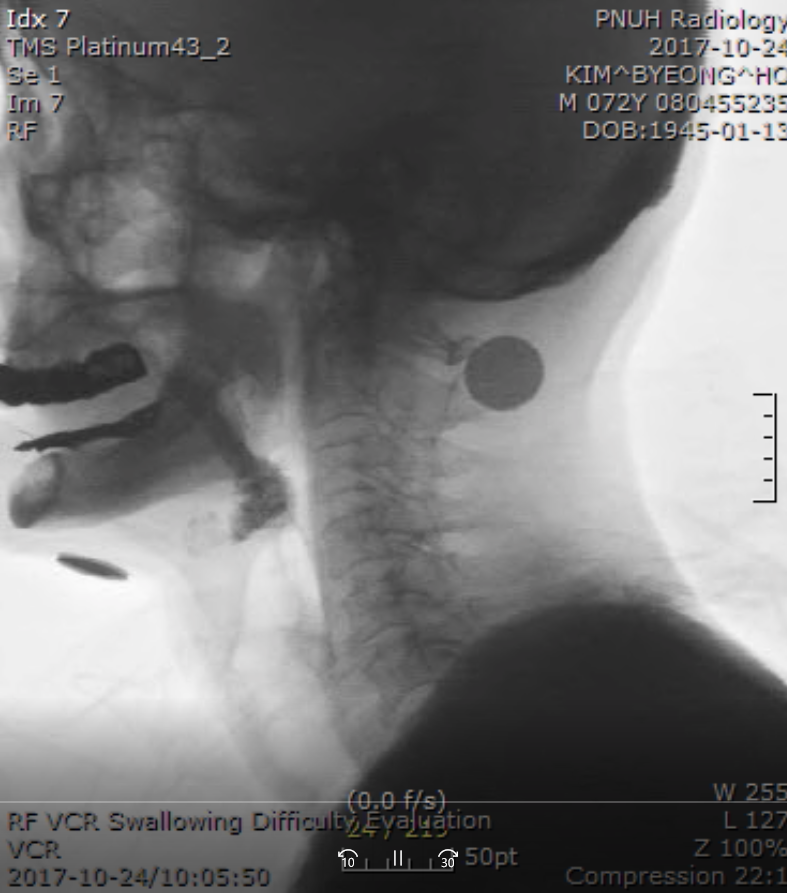dros: (275, 564, 344, 634)
food: (203, 400, 302, 552)
uros: (223, 480, 282, 537)
